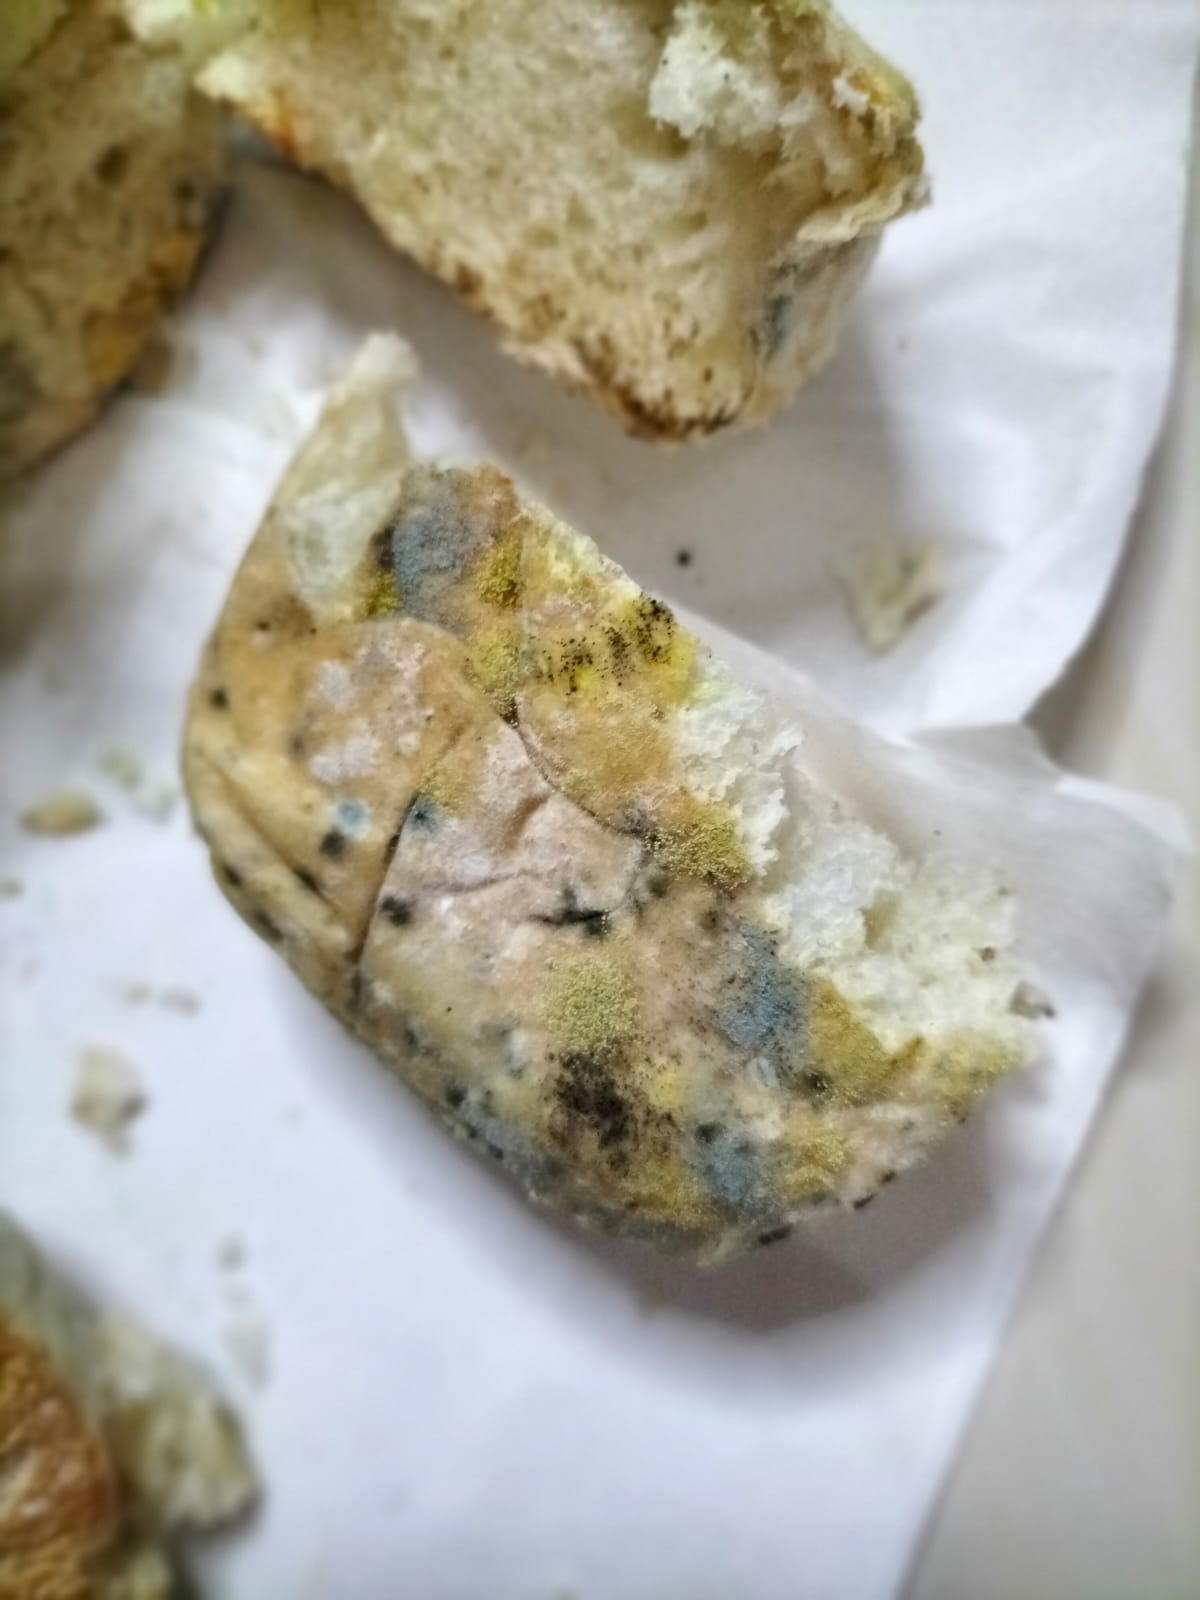mold_bread: (355, 469, 479, 643), (538, 1037, 653, 1168), (553, 593, 696, 697), (618, 797, 755, 901), (679, 1110, 789, 1232), (717, 956, 821, 1066), (534, 876, 621, 951), (292, 790, 355, 893), (749, 273, 813, 362), (194, 665, 245, 729), (403, 787, 447, 847), (377, 889, 415, 934)
